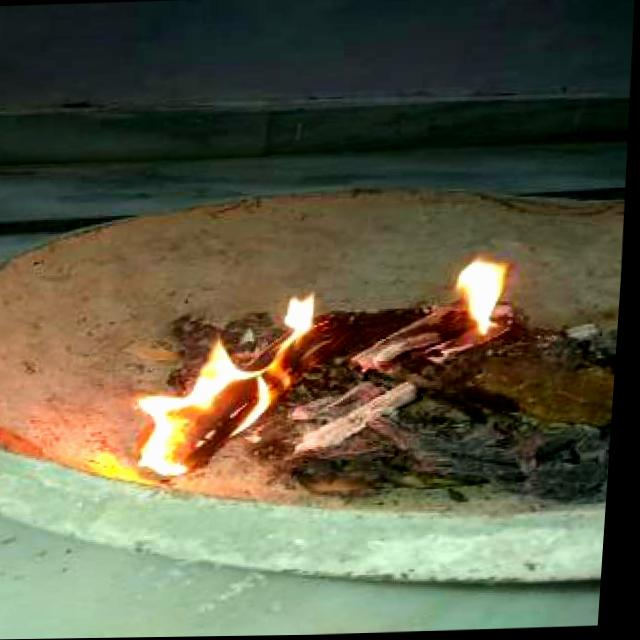helmet: (126, 289, 349, 481), (448, 251, 527, 348)
